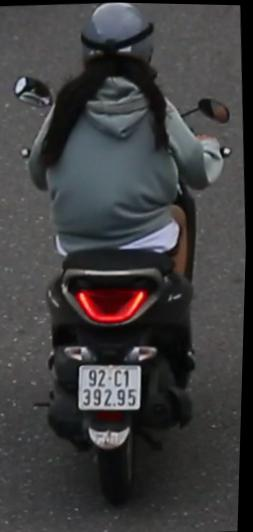LP: (75, 358, 148, 420)
helmet: (74, 1, 162, 81)
